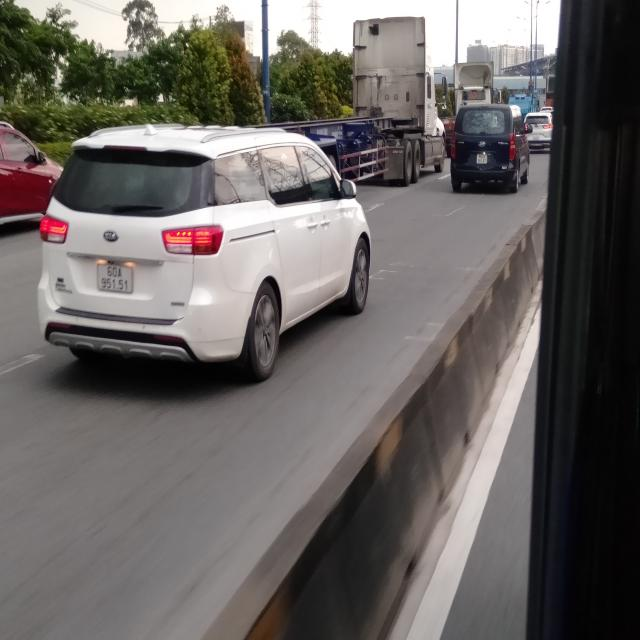bien_trang: (96, 260, 132, 296)
